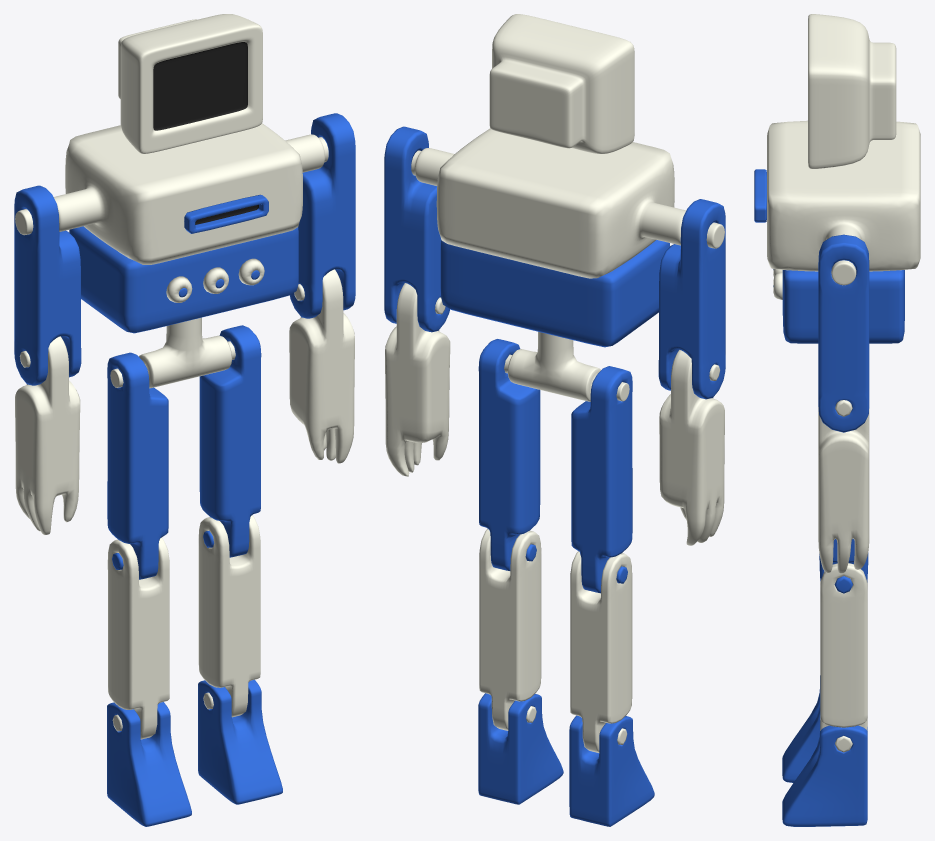
The picture shows the model from 3 angles, left to right: view 1: azimuth 30°, elevation 25°; view 2: azimuth 150°, elevation 25°; view 3: azimuth 270°, elevation 25°; orthographic projection.
Parts seen in each view (by area): view 1: robot.torse, roto.tete, robot.torse.001, robot.jambe.001.R, robot.jambe.001.L, robot.bras.001.R, robot.jambe.002.L, robot.jambe.002.R, robot.bras.002.R, robot.bras.002.L, robot.bras.001.L, robot.pied.L (+3 smaller); view 2: robot.torse, roto.tete, robot.torse.001, robot.jambe.001.R, robot.jambe.001.L, robot.bras.001.R, robot.jambe.002.L, robot.jambe.002.R, robot.bras.002.L, robot.bras.002.R, robot.bras.001.L, robot.pied.R (+2 smaller); view 3: robot.torse, roto.tete, robot.bras.001.L, robot.jambe.002.L, robot.bras.002.L, robot.pied.L, robot.torse.001, robot.pied.R, robot.sortie, robot.jambe.001.L.
Boxes of the visible parts, bbox=[...] form: robot.torse: bbox=[15, 123, 328, 264]; roto.tete: bbox=[118, 14, 262, 153]; robot.torse.001: bbox=[69, 226, 298, 333]; robot.jambe.001.R: bbox=[107, 352, 168, 579]; robot.jambe.001.L: bbox=[199, 325, 261, 557]; robot.bras.001.R: bbox=[14, 185, 81, 385]; robot.jambe.002.L: bbox=[198, 515, 260, 717]; robot.jambe.002.R: bbox=[107, 537, 169, 739]; robot.bras.002.R: bbox=[15, 336, 80, 534]; robot.bras.002.L: bbox=[289, 269, 354, 463]; robot.bras.001.L: bbox=[289, 113, 355, 318]; robot.pied.L: bbox=[198, 679, 282, 804]; robot.torse: bbox=[411, 128, 724, 278]; roto.tete: bbox=[489, 14, 634, 153]; robot.torse.001: bbox=[440, 240, 670, 347]; robot.jambe.001.R: bbox=[571, 366, 632, 593]; robot.jambe.001.L: bbox=[478, 339, 540, 570]; robot.bras.001.R: bbox=[658, 199, 725, 399]; robot.jambe.002.L: bbox=[479, 528, 541, 730]; robot.jambe.002.R: bbox=[570, 551, 632, 752]; robot.bras.002.L: bbox=[385, 283, 450, 476]; robot.bras.002.R: bbox=[659, 350, 724, 545]; robot.bras.001.L: bbox=[384, 126, 449, 332]; robot.pied.R: bbox=[569, 715, 654, 826]; robot.torse: bbox=[767, 120, 920, 285]; roto.tete: bbox=[808, 14, 896, 168]; robot.bras.001.L: bbox=[818, 234, 869, 432]; robot.jambe.002.L: bbox=[820, 563, 867, 752]; robot.bras.002.L: bbox=[818, 400, 869, 573]; robot.pied.L: bbox=[782, 719, 867, 826]; robot.torse.001: bbox=[782, 270, 904, 343]; robot.pied.R: bbox=[782, 675, 820, 782]; robot.sortie: bbox=[754, 169, 766, 222]; robot.jambe.001.L: bbox=[819, 539, 868, 593].
Size of the model in its own units: 0.1579 by 0.3535 by 0.0707.
